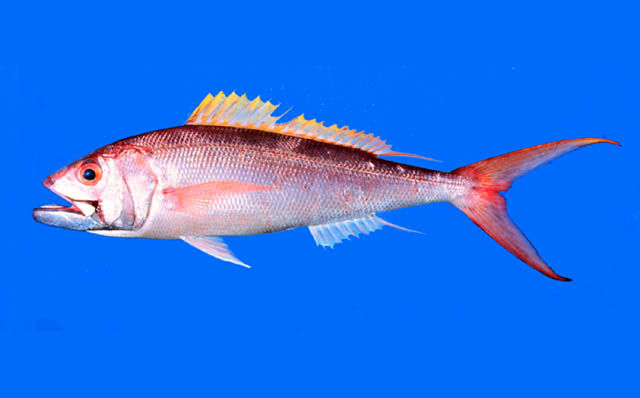fish: (31, 91, 622, 284)
